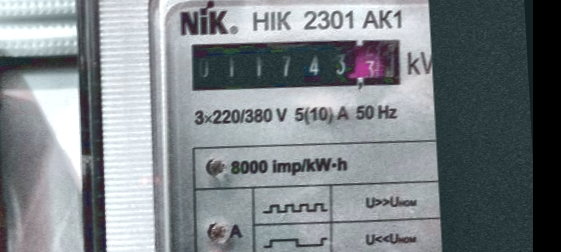0: (195, 50, 210, 78)
1: (222, 48, 237, 77), (250, 48, 264, 77)
3: (331, 47, 346, 75), (360, 56, 376, 78)
4: (305, 50, 320, 76)
7: (277, 49, 292, 75)
screen: (181, 25, 410, 101)
